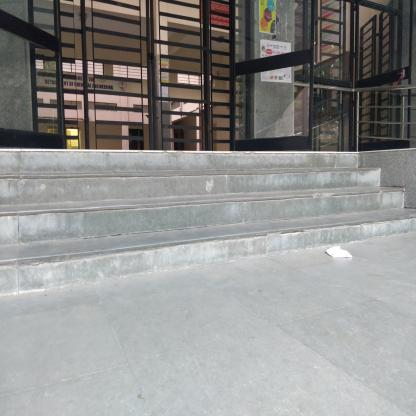stairs: (34, 173, 253, 297)
